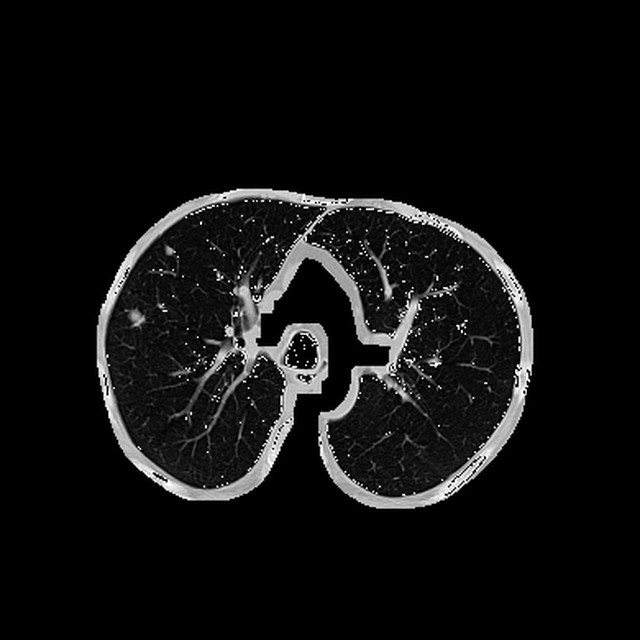PN: (166, 246, 172, 253)
